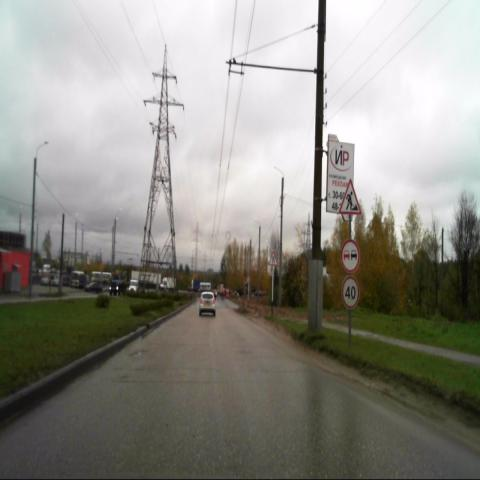1_25: (339, 179, 361, 216)
3_20: (340, 239, 360, 274)
